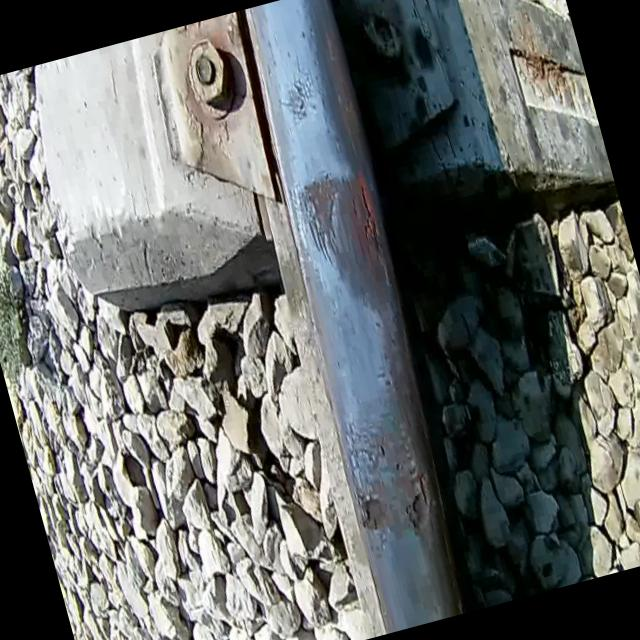Spallings: (340, 169, 390, 268), (394, 464, 444, 538), (349, 482, 398, 545)
Squats: (280, 152, 410, 342), (326, 392, 448, 556), (262, 44, 329, 134)
